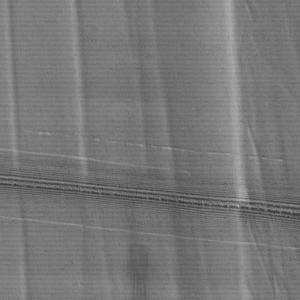Wrinkle: (131, 1, 215, 300), (65, 1, 118, 300), (1, 1, 38, 300), (223, 1, 257, 300)
